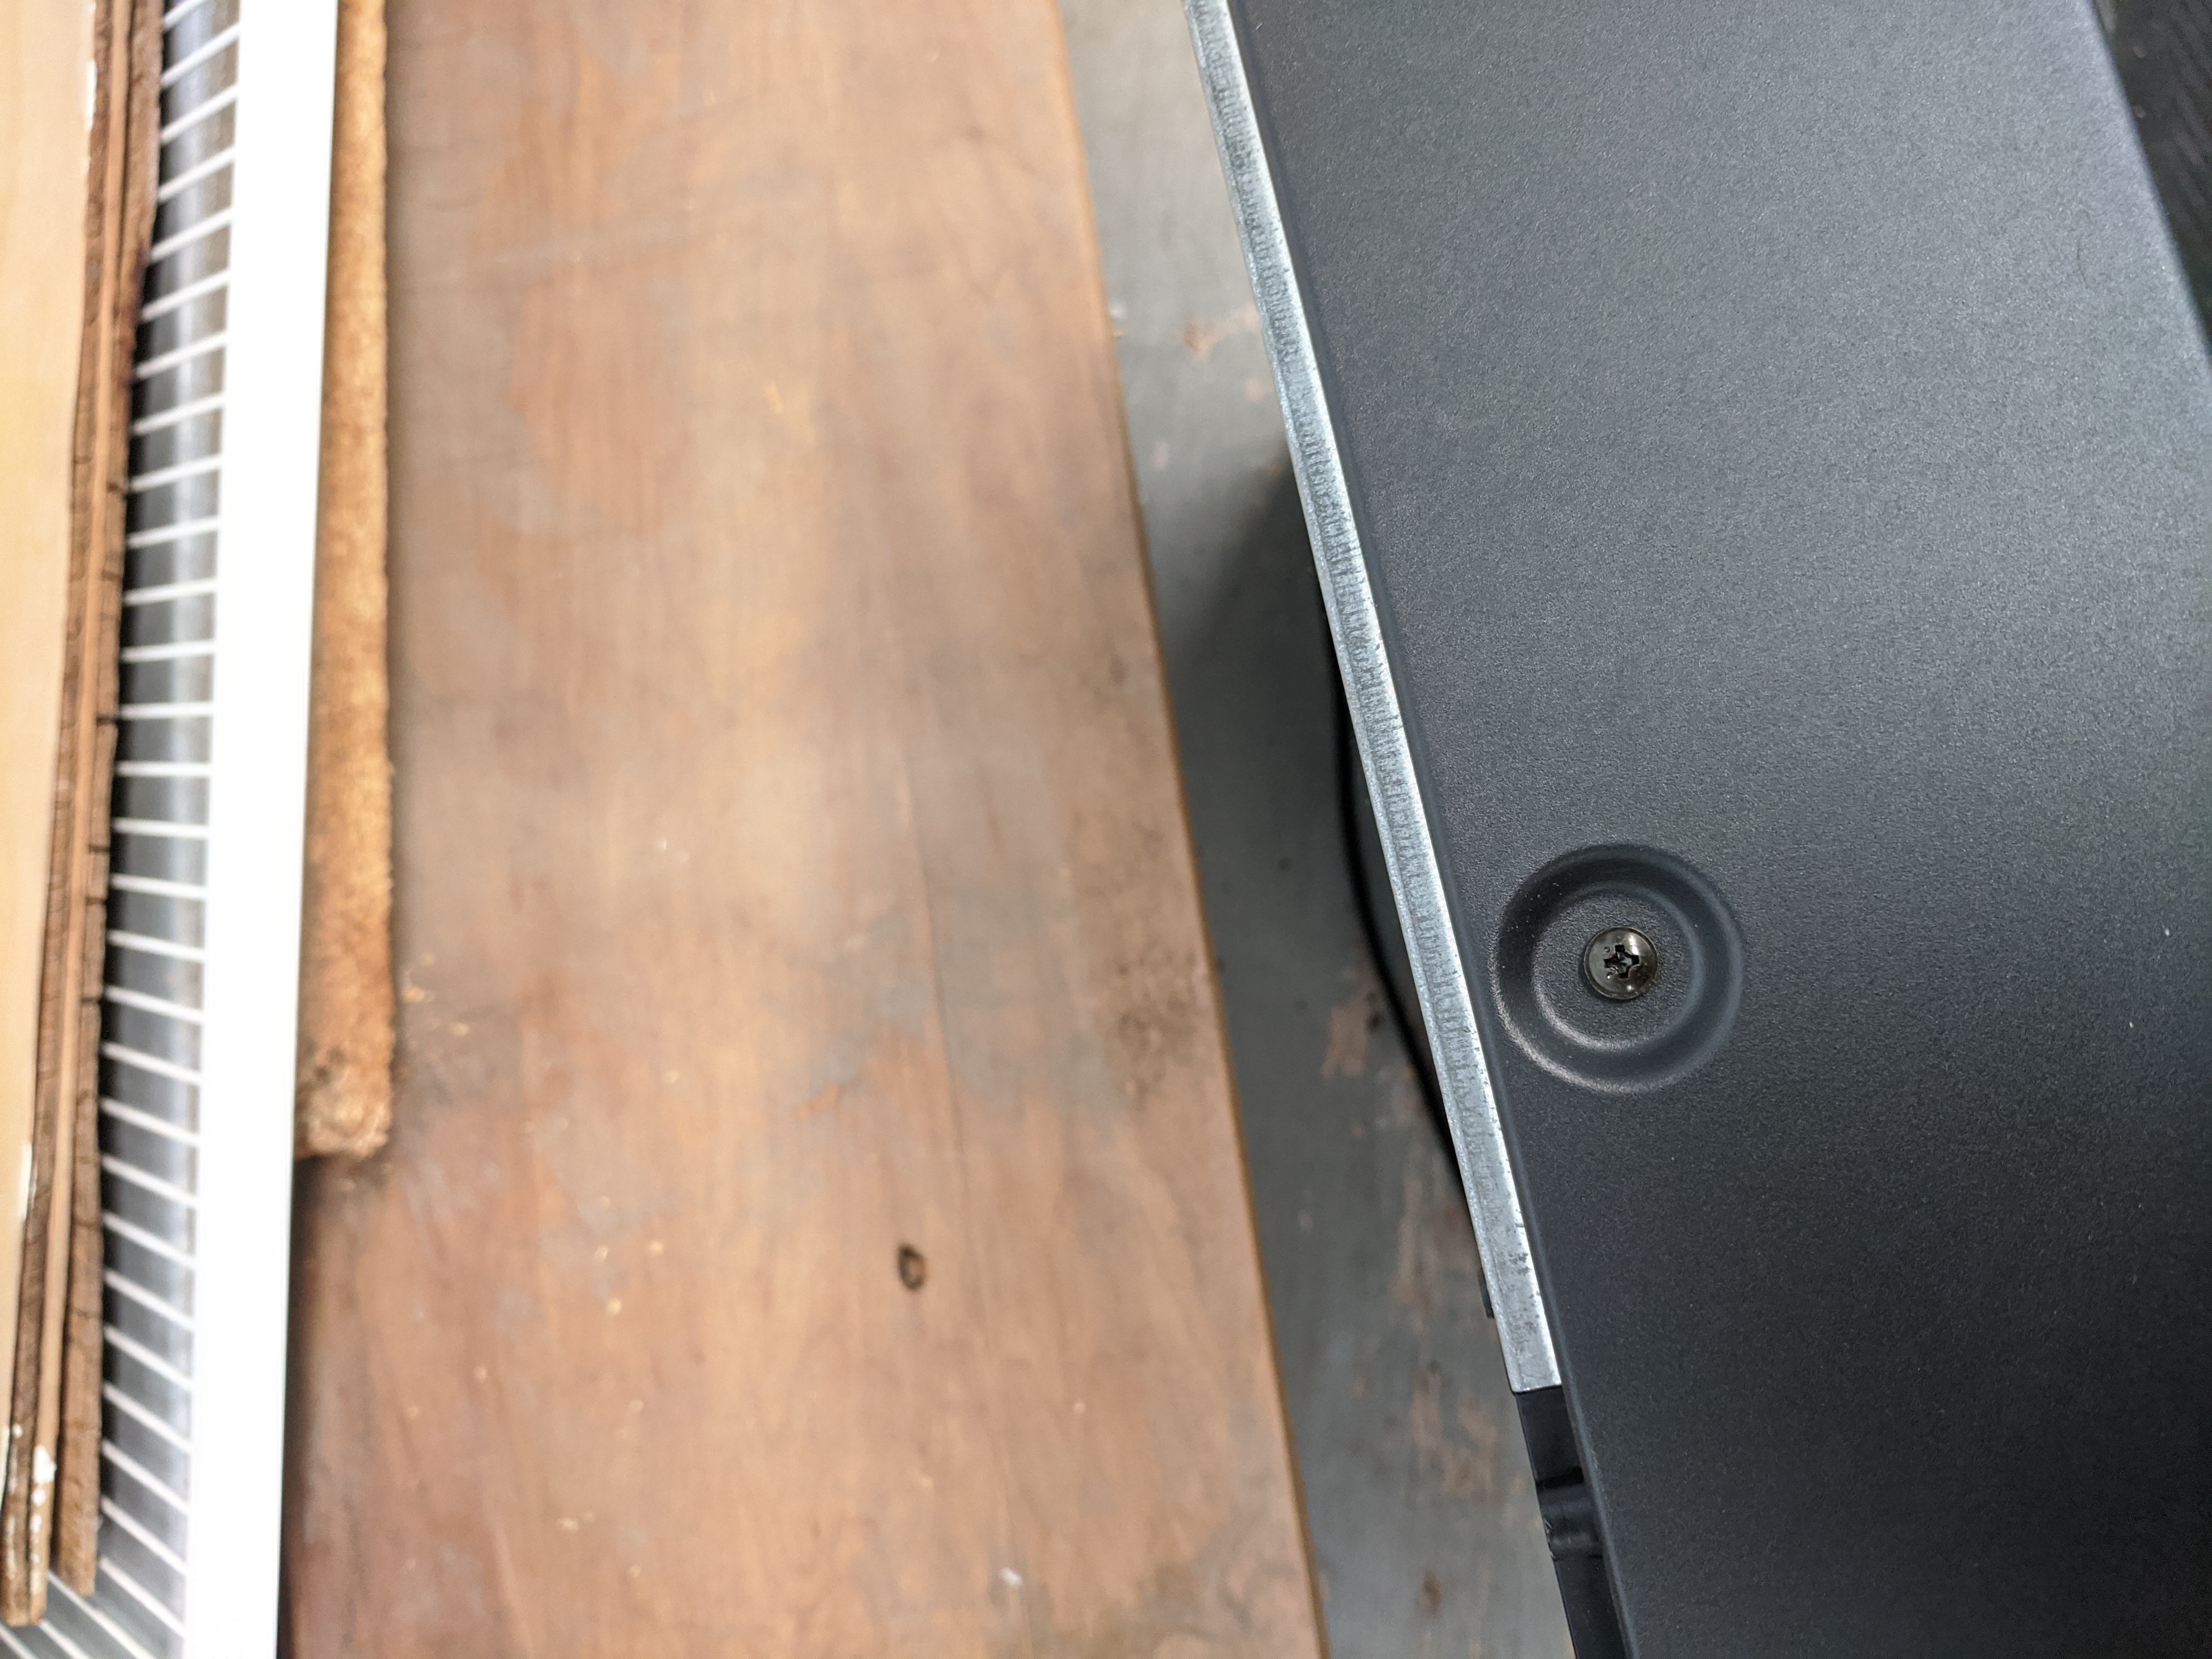cross_recessed_screw: (1583, 922, 1656, 993)
